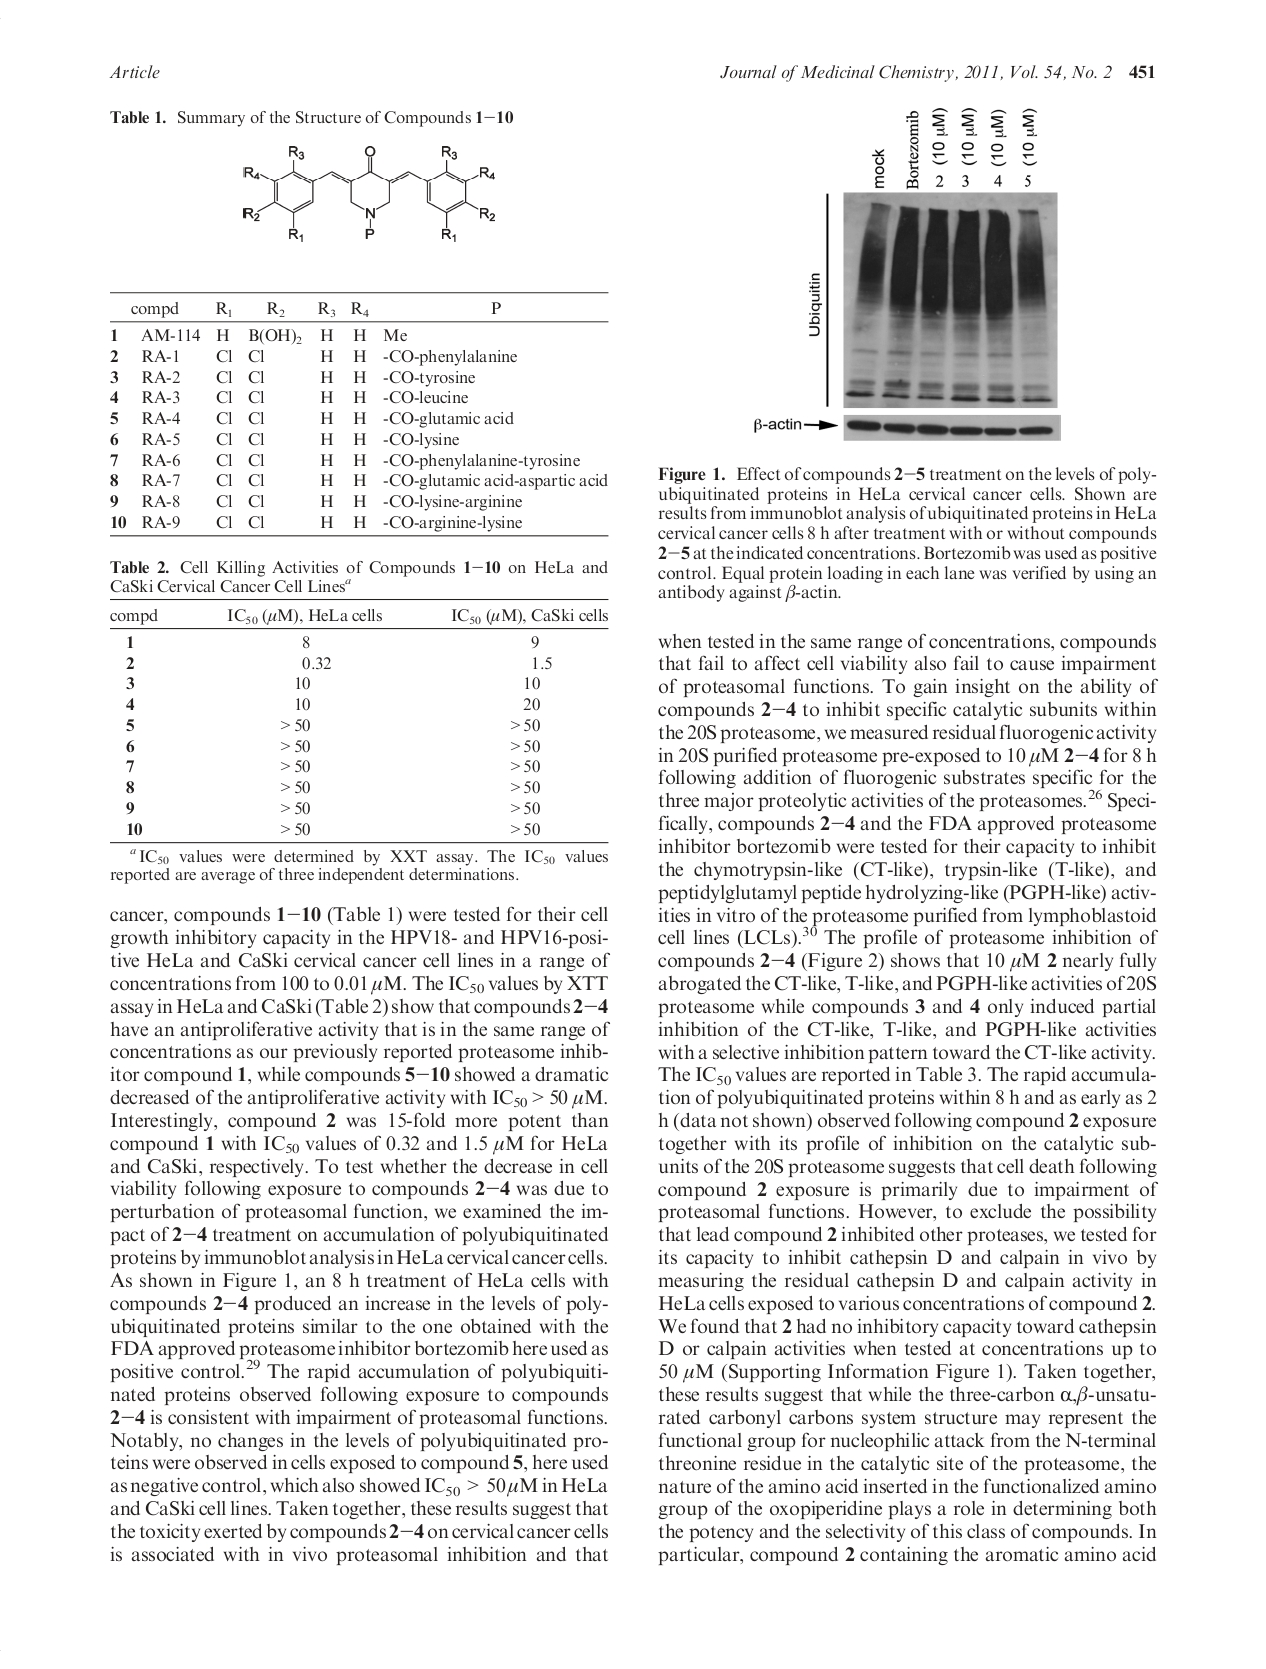exist_molecular: (238, 142, 501, 245)
